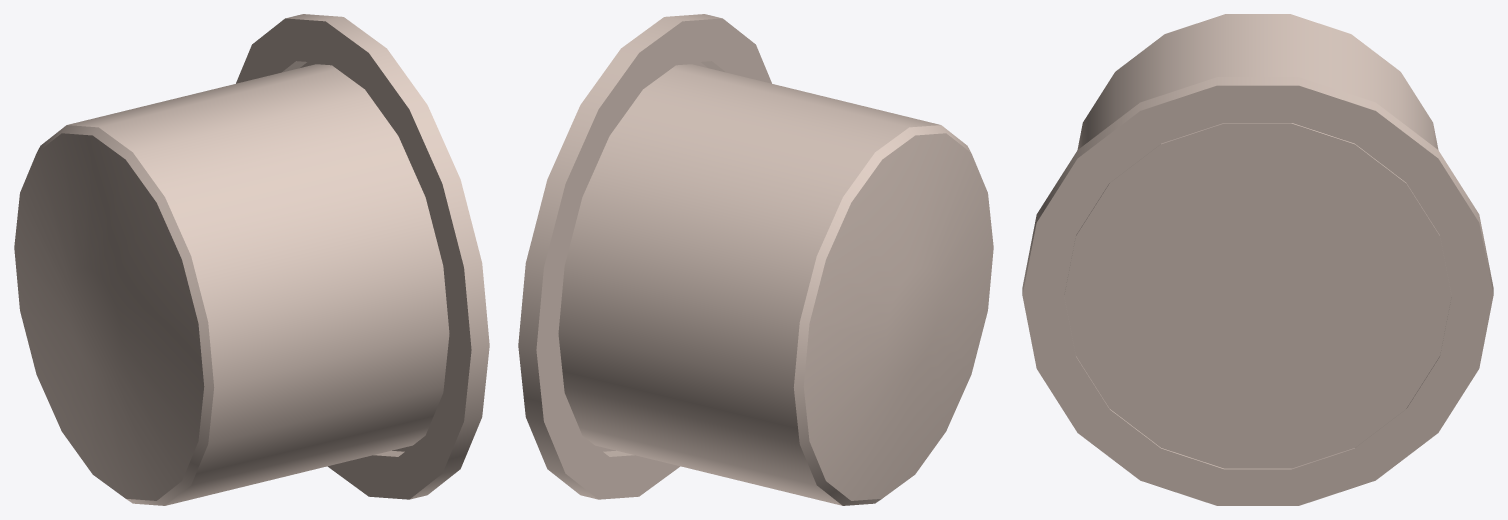
The model's file is E_worktop_hood_button_220905.fbx.
The picture shows the model from 3 angles, left to right: view 1: azimuth 30°, elevation 25°; view 2: azimuth 150°, elevation 25°; view 3: azimuth 270°, elevation 25°; orthographic projection. The views are drawn at different scales.
Parts seen in each view (by area): view 1: HUD_Btn, HUD_Ring; view 2: HUD_Btn, HUD_Ring; view 3: HUD_Ring, HUD_Btn.
Part boxes in pixels (x1,y1,x2,y2): HUD_Btn: (14,64,449,505); HUD_Ring: (236,14,489,499); HUD_Btn: (558,64,993,505); HUD_Ring: (518,14,771,499); HUD_Ring: (1022,77,1493,505); HUD_Btn: (1072,14,1444,461).
Bounding box in the file's own units: 25.36 × 39.55 × 40.16.
